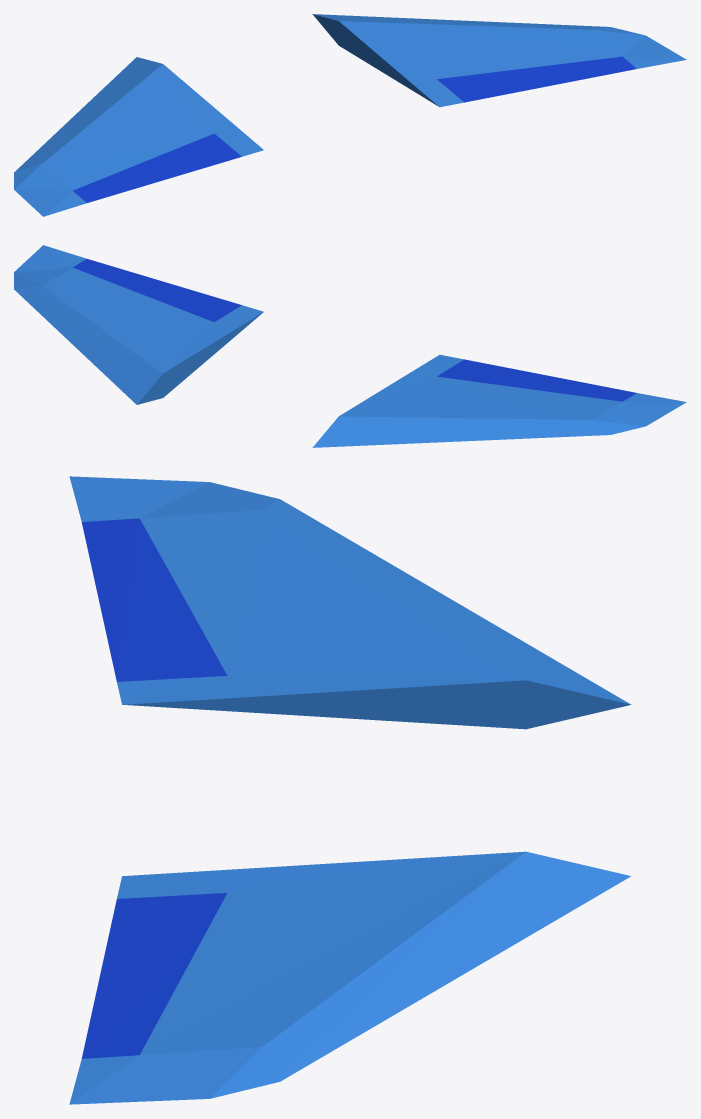
File: Wings.FBX
3 views of the same model, one above another, from view 1: azimuth 30°, elevation 25°; view 2: azimuth 150°, elevation 25°; view 3: azimuth 270°, elevation 25° (orthographic). The views are drawn at different scales.
Parts seen in each view (by area): view 1: VIFS001, VIFS003, VIFS002, VIFS004; view 2: VIFS003, VIFS001, VIFS002, VIFS004; view 3: VIFS001, VIFS003, VIFS004, VIFS002.
Part boxes in pixels (x1,y1,x2,y2): VIFS001: (312, 14, 686, 107); VIFS003: (14, 57, 263, 216); VIFS002: (437, 56, 636, 102); VIFS004: (73, 133, 241, 202); VIFS003: (312, 354, 686, 447); VIFS001: (14, 245, 263, 404); VIFS002: (73, 259, 241, 322); VIFS004: (437, 359, 636, 401); VIFS001: (69, 851, 631, 1104); VIFS003: (69, 476, 631, 729); VIFS004: (81, 518, 227, 681); VIFS002: (81, 893, 227, 1058).
Size of the model in its own units: 22 by 0.8 by 8.32.
